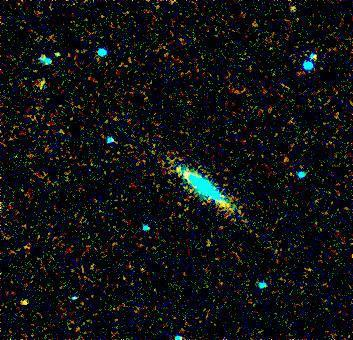star: (17, 288, 47, 318)
